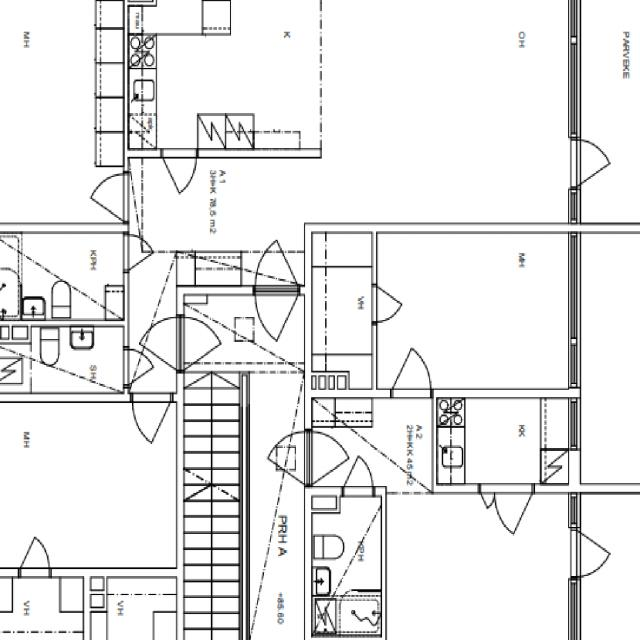door: (255, 286, 298, 349), (255, 233, 298, 296), (133, 318, 184, 370), (176, 318, 226, 370), (569, 139, 618, 187), (132, 394, 171, 450), (85, 174, 128, 222), (162, 148, 196, 200), (20, 532, 48, 578), (123, 350, 157, 385), (123, 235, 157, 270)
